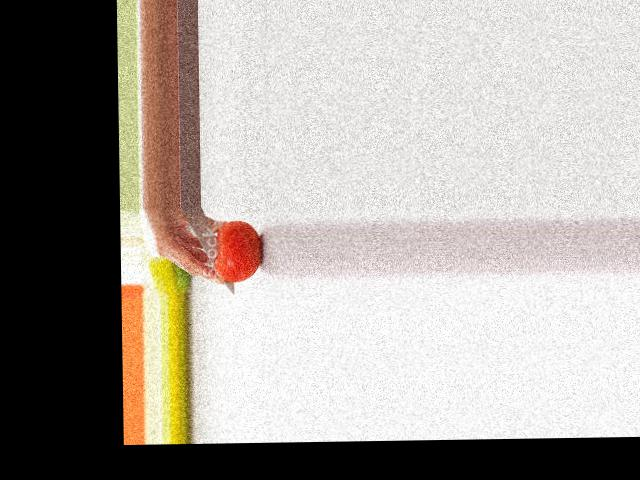tomato: (213, 219, 262, 282)
